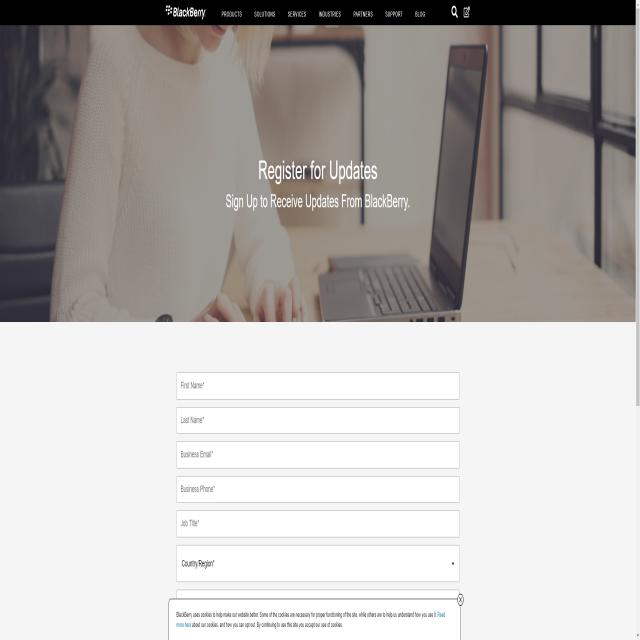menu-bar: (219, 8, 427, 24)
